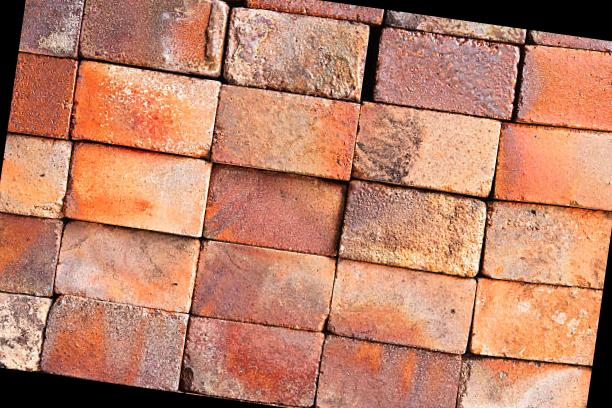brick: (338, 179, 489, 279), (69, 59, 221, 158), (326, 258, 478, 354), (39, 293, 189, 390), (222, 4, 371, 101), (211, 84, 360, 180), (64, 141, 212, 237), (351, 100, 500, 195), (54, 218, 200, 314), (191, 238, 337, 334), (372, 27, 520, 120), (179, 315, 324, 408), (203, 163, 346, 256), (468, 270, 603, 368), (480, 193, 612, 293), (492, 117, 612, 214), (79, 0, 229, 77), (315, 334, 462, 408), (515, 40, 612, 137), (454, 350, 591, 408), (7, 51, 79, 139), (0, 132, 72, 219), (0, 211, 63, 298), (0, 290, 51, 371), (19, 0, 87, 59)
